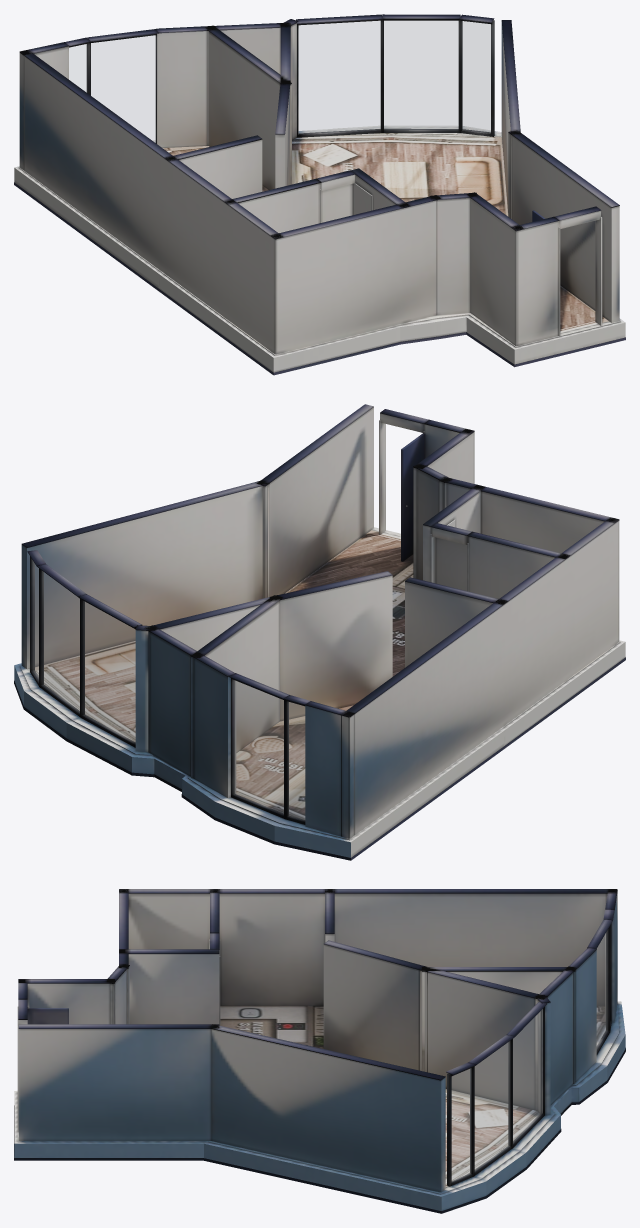
The picture shows the model from 3 angles, top to bottom: view 1: azimuth 30°, elevation 25°; view 2: azimuth 150°, elevation 25°; view 3: azimuth 270°, elevation 25°; orthographic projection. The views are drawn at different scales.
Visible parts, largest first — view 1: plan, glass2_m, glass3_m, glass1_m, glass4_m, glass0_m; view 2: plan, glass2_m, glass1_m, glass3_m, glass0_m, glass4_m; view 3: plan, glass3_m, glass2_m, glass4_m, glass1_m.
Part boxes in pixels (x1=…): plan: x1=14, y1=14, x2=625, y2=375; glass2_m: x1=298, y1=21, x2=380, y2=133; glass3_m: x1=384, y1=21, x2=458, y2=129; glass1_m: x1=91, y1=35, x2=155, y2=142; glass4_m: x1=462, y1=21, x2=490, y2=132; glass0_m: x1=69, y1=44, x2=87, y2=92; plan: x1=14, y1=404, x2=625, y2=860; glass2_m: x1=83, y1=601, x2=135, y2=743; glass1_m: x1=233, y1=680, x2=283, y2=814; glass3_m: x1=42, y1=571, x2=79, y2=712; glass0_m: x1=288, y1=702, x2=304, y2=820; glass4_m: x1=33, y1=562, x2=38, y2=679; plan: x1=14, y1=889, x2=625, y2=1213; glass3_m: x1=475, y1=1041, x2=509, y2=1170; glass2_m: x1=513, y1=1009, x2=542, y2=1142; glass4_m: x1=452, y1=1068, x2=470, y2=1181; glass1_m: x1=597, y1=931, x2=607, y2=1048.
Bounding box in the file's own units: 8.45 × 2.62 × 11.14.
Materials: 2 (1 with a texture image).
